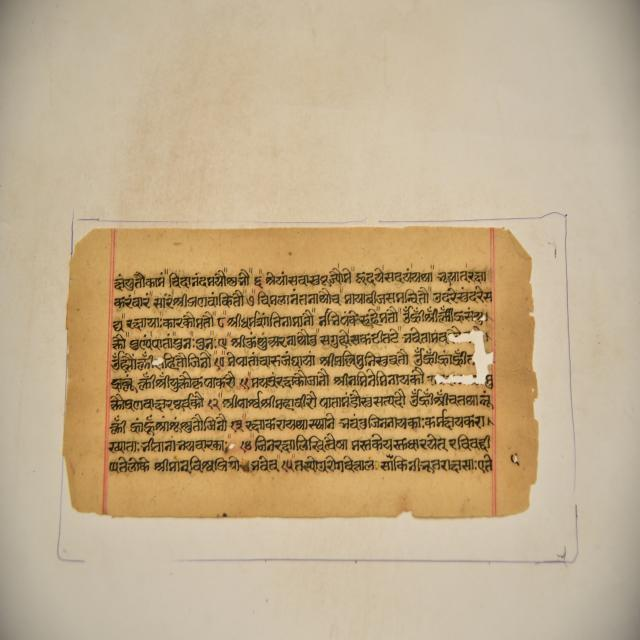text_paragraph: (69, 227, 530, 506)
